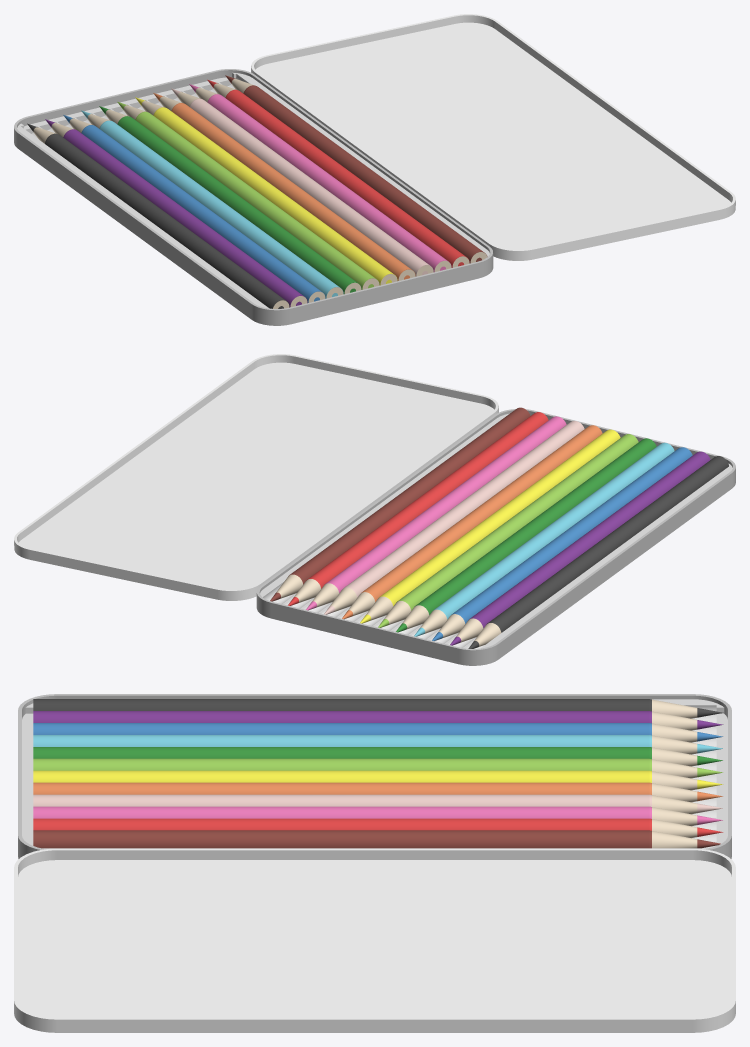
Rendered from 179_色鉛筆12色セット.glb.
The picture shows the model from 3 angles, top to bottom: view 1: azimuth 30°, elevation 25°; view 2: azimuth 150°, elevation 25°; view 3: azimuth 270°, elevation 25°; orthographic projection. The views are drawn at different scales.
Visible parts, largest first — view 1: ふた, トレー, 01, 04, 09, 07, 11, 02, 06, 05, 03, 10 (+2 smaller); view 2: ふた, トレー, 01, 05, 10, 04, 02, 11, 08, 03, 06, 07 (+2 smaller); view 3: ふた, 12, トレー, 11, 08, 06, 07, 09, 10, 02, 01, 05 (+2 smaller).
Part boxes in pixels (<box>): ふた: <box>251,14,735,260</box>; トレー: <box>14,69,493,325</box>; 01: <box>27,123,289,308</box>; 04: <box>81,110,343,298</box>; 09: <box>171,88,433,276</box>; 07: <box>135,97,397,285</box>; 11: <box>207,79,469,267</box>; 02: <box>45,119,307,307</box>; 06: <box>117,101,379,289</box>; 05: <box>99,106,361,294</box>; 03: <box>63,115,325,302</box>; 10: <box>189,84,451,272</box>; ふた: <box>14,354,498,600</box>; トレー: <box>256,409,735,665</box>; 01: <box>468,456,728,648</box>; 05: <box>396,438,656,632</box>; 10: <box>306,416,566,610</box>; 04: <box>414,442,674,636</box>; 02: <box>450,451,710,645</box>; 11: <box>288,412,548,605</box>; 08: <box>342,425,602,619</box>; 03: <box>432,447,692,640</box>; 06: <box>378,434,638,627</box>; 07: <box>360,429,620,623</box>; ふた: <box>14,848,735,1032</box>; 12: <box>33,830,720,848</box>; トレー: <box>18,694,731,858</box>; 11: <box>33,818,723,838</box>; 08: <box>33,782,722,802</box>; 06: <box>33,758,723,778</box>; 07: <box>33,770,723,790</box>; 09: <box>33,794,722,814</box>; 10: <box>33,806,722,826</box>; 02: <box>33,711,723,730</box>; 01: <box>33,699,723,718</box>; 05: <box>33,747,722,766</box>.
Size of the model in its own units: 0.1919 by 0.00803 by 0.184.
